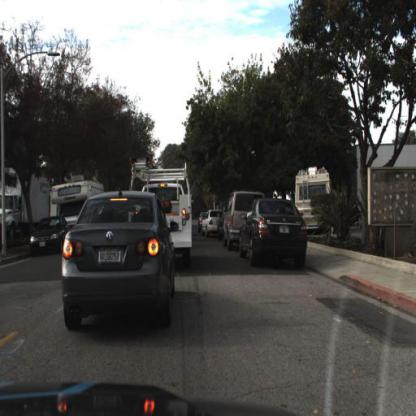car: (62, 195, 174, 326), (237, 198, 308, 266), (164, 159, 199, 271), (48, 175, 108, 224), (295, 168, 331, 230), (223, 193, 262, 246), (30, 214, 68, 252), (221, 188, 241, 253), (201, 207, 222, 235)
truck: (142, 172, 193, 257), (284, 160, 333, 239), (1, 168, 52, 232), (58, 182, 91, 238)
